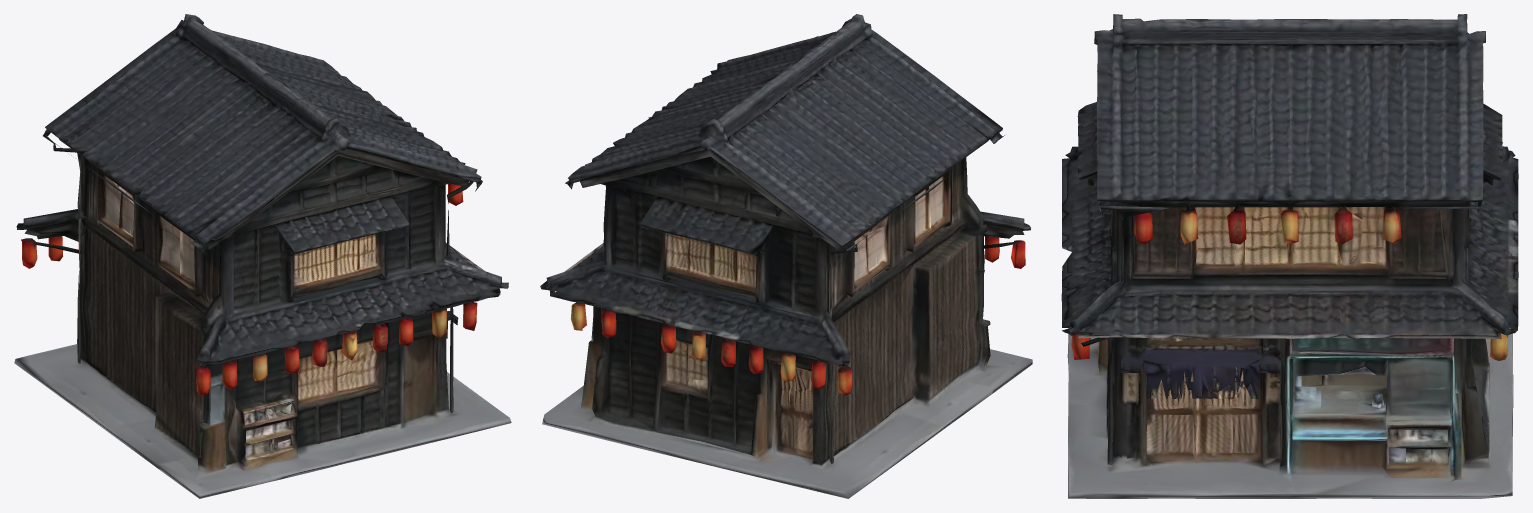
The model's file is au_bld_lantern_street.glb.
3 views of the same model, side by side, from view 1: azimuth 30°, elevation 25°; view 2: azimuth 150°, elevation 25°; view 3: azimuth 270°, elevation 25° (orthographic). The views are drawn at different scales.
Parts seen in each view (by area): view 1: tripo_node_0faebd18-6976-46c0-9521-6a9a98171102; view 2: tripo_node_0faebd18-6976-46c0-9521-6a9a98171102; view 3: tripo_node_0faebd18-6976-46c0-9521-6a9a98171102.
Boxes of the visible parts, x1,y1,x2,y2 form: tripo_node_0faebd18-6976-46c0-9521-6a9a98171102: [14, 14, 511, 498]; tripo_node_0faebd18-6976-46c0-9521-6a9a98171102: [540, 14, 1032, 498]; tripo_node_0faebd18-6976-46c0-9521-6a9a98171102: [1061, 14, 1518, 498].
Size of the model in its own units: 0.9269 by 0.9301 by 0.9796.
Materials: 1 (1 with a texture image).
